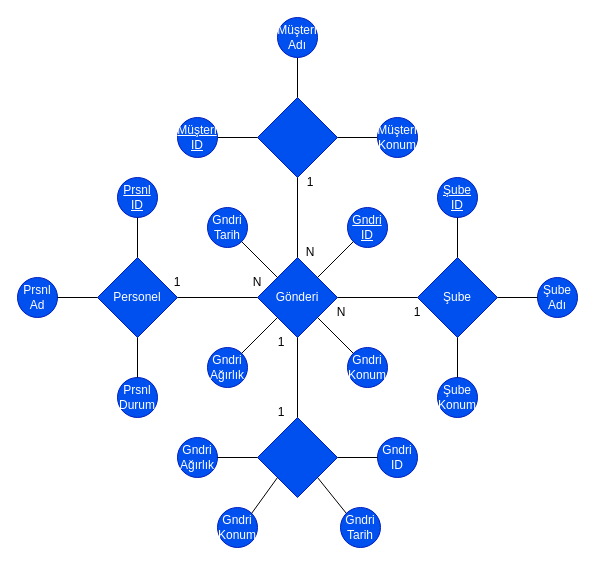
Image size: 595x565. Some labels were removed from this diagram. Here are the shapes that lost their labels. From the top down, the centre of each, then its label:
(x=297, y=137): Müşteri
(x=297, y=457): Kargo Durum
